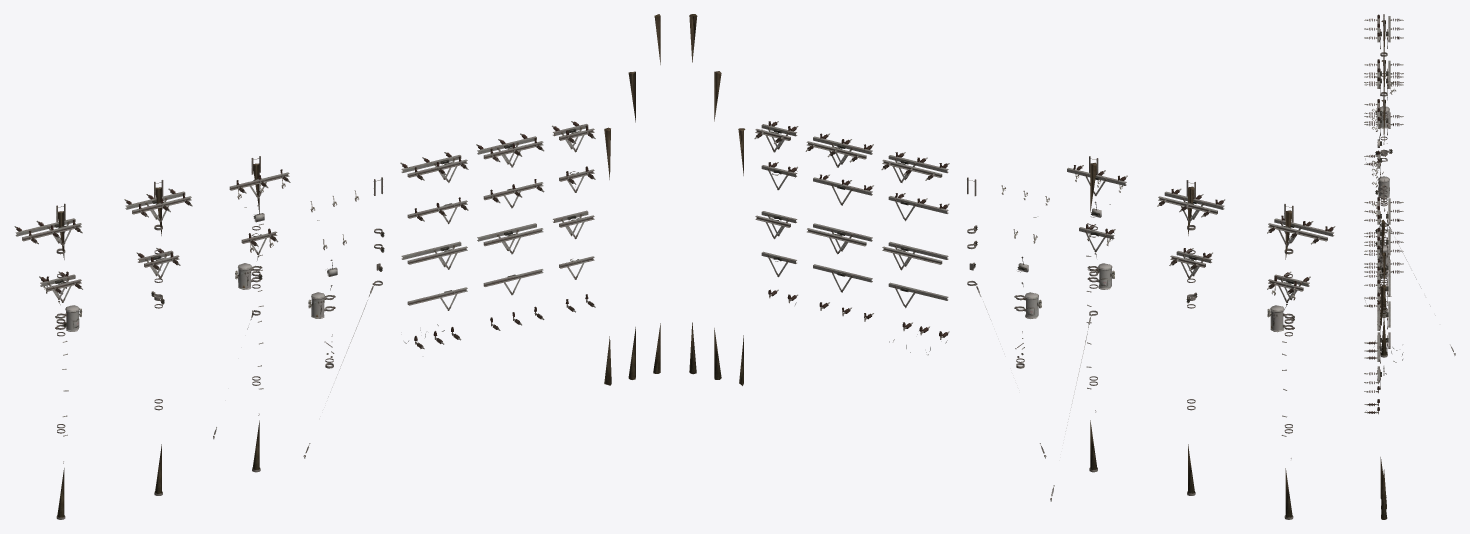
Rendered from modular_electricity_poles.glb.
3 views of the same model, side by side, from view 1: azimuth 30°, elevation 25°; view 2: azimuth 150°, elevation 25°; view 3: azimuth 270°, elevation 25° (orthographic). The views are drawn at different scales.
Visible parts, largest first — view 1: connection_large_01, connection_large_offset_01, preset_02_connection_large_01, preset_03_connection_large_offset_01, support_large_offset_01, support_large_01; view 2: connection_large_01, connection_large_offset_01, preset_02_connection_large_01, preset_03_connection_large_offset_01, support_large_offset_01, support_large_01; view 3: preset_03_connection_large_offset_01, preset_02_connection_large_01, connection_large_offset_01, connection_large_01, pole_large, connection_small_01, pole_small, preset_01_transformer_01, preset_01_pole, preset_02_connection_small_01, pole, support_large_01 (+9 smaller).
Part boxes in pixels (x1,y1,x2,y2): connection_large_01: (476, 133, 544, 167); connection_large_offset_01: (400, 152, 468, 182); preset_02_connection_large_01: (124, 188, 192, 222); preset_03_connection_large_offset_01: (14, 218, 82, 246); support_large_offset_01: (401, 241, 467, 269); support_large_01: (477, 223, 543, 254); connection_large_01: (805, 133, 873, 167); connection_large_offset_01: (881, 152, 949, 182); preset_02_connection_large_01: (1157, 188, 1225, 222); preset_03_connection_large_offset_01: (1267, 215, 1335, 246); support_large_offset_01: (882, 241, 948, 270); support_large_01: (807, 223, 872, 254); preset_03_connection_large_offset_01: (1364, 14, 1403, 49); preset_02_connection_large_01: (1364, 59, 1403, 88); connection_large_offset_01: (1364, 197, 1403, 231); connection_large_01: (1364, 227, 1403, 257); pole_large: (1381, 219, 1387, 519); connection_small_01: (1364, 258, 1403, 283); pole_small: (1380, 285, 1386, 498); preset_01_transformer_01: (1378, 176, 1389, 199); preset_01_pole: (1381, 99, 1386, 355); preset_02_connection_small_01: (1364, 112, 1403, 135); pole: (1381, 252, 1386, 509); support_large_01: (1377, 301, 1390, 329).
Size of the model in its own units: 13.11 by 7 by 1.96.
2 materials, 2 textured.
